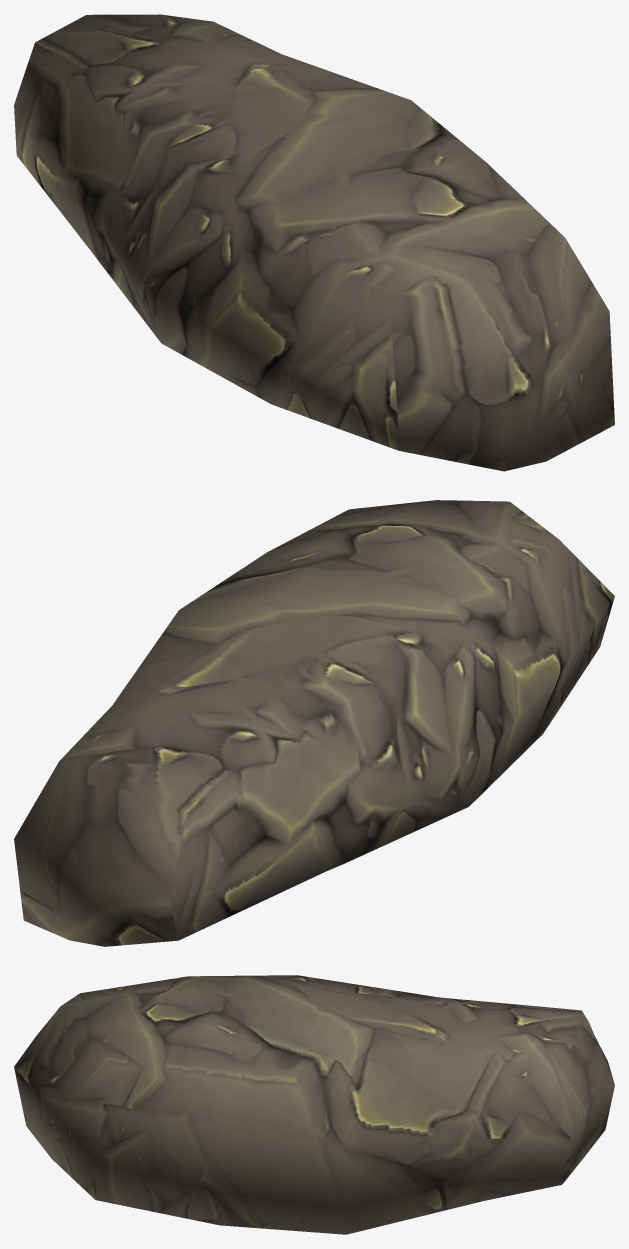
The model's file is Prop_Rock_02.FBX.
3 views of the same model, one above another, from view 1: azimuth 30°, elevation 25°; view 2: azimuth 150°, elevation 25°; view 3: azimuth 270°, elevation 25° (orthographic). The views are drawn at different scales.
Parts seen in each view (by area): view 1: Prop_Rock_02; view 2: Prop_Rock_02; view 3: Prop_Rock_02.
Boxes of the visible parts, left/top/right/bottom form: Prop_Rock_02: left=14, top=14, right=614, bottom=471; Prop_Rock_02: left=14, top=500, right=614, bottom=946; Prop_Rock_02: left=14, top=975, right=614, bottom=1234.
Size of the model in its own units: 1.79 by 1.43 by 4.16.
